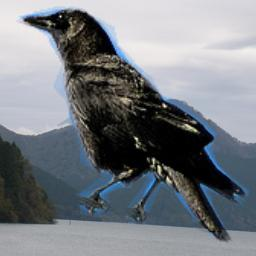Crow: (11, 5, 249, 246)
